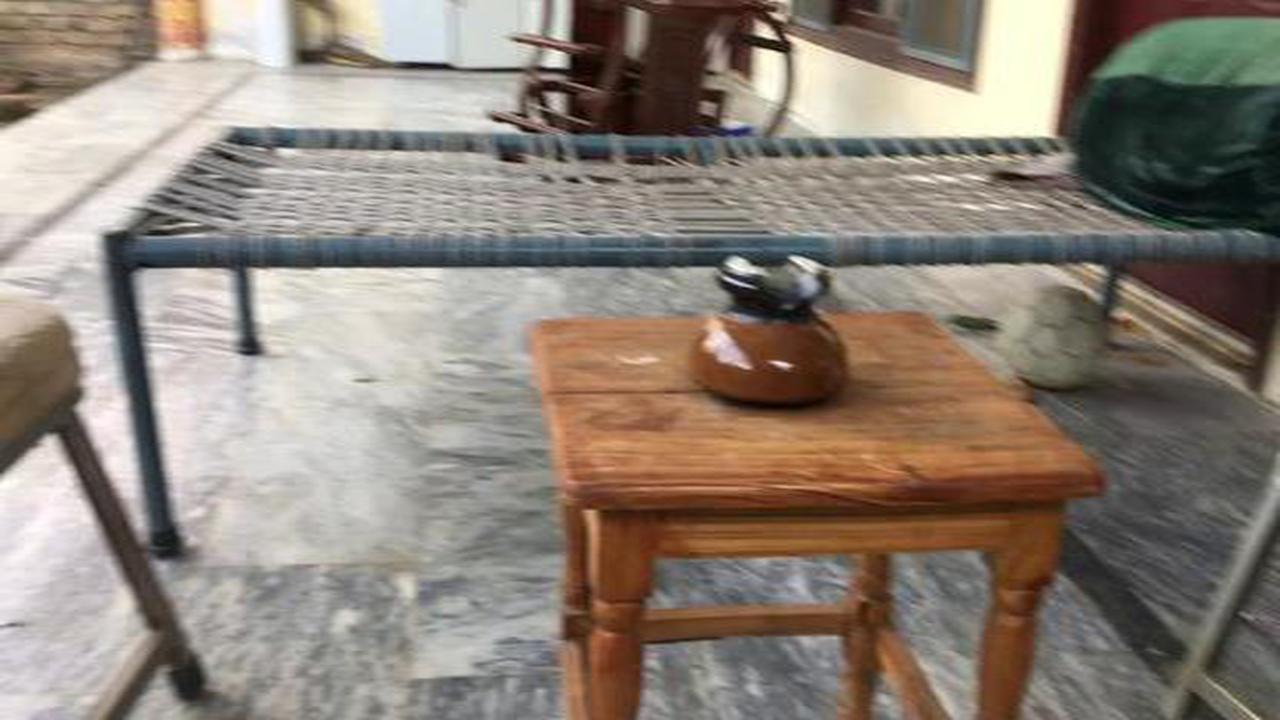insulator_pin: (668, 243, 871, 416)
